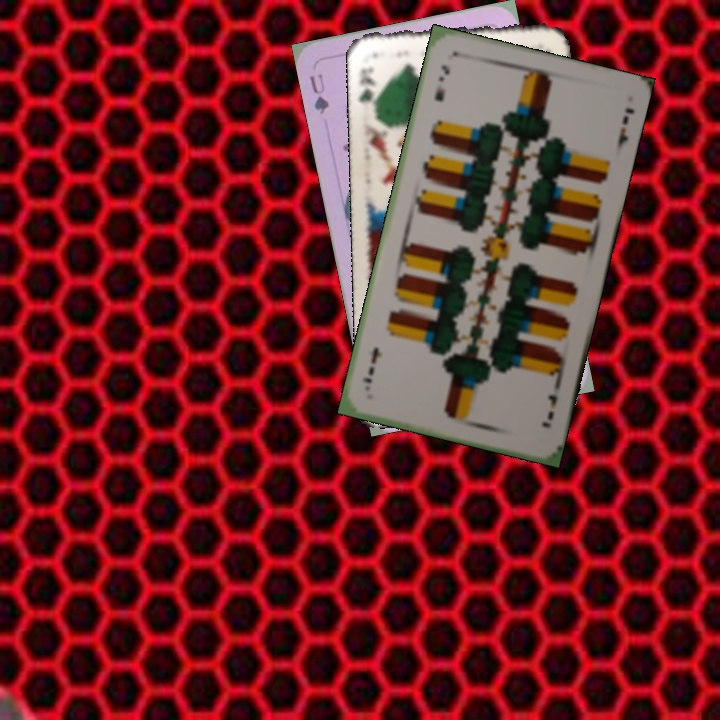E7: (429, 61, 452, 104), (537, 390, 560, 430)
GK: (354, 63, 382, 112)
GU: (305, 70, 332, 117)
